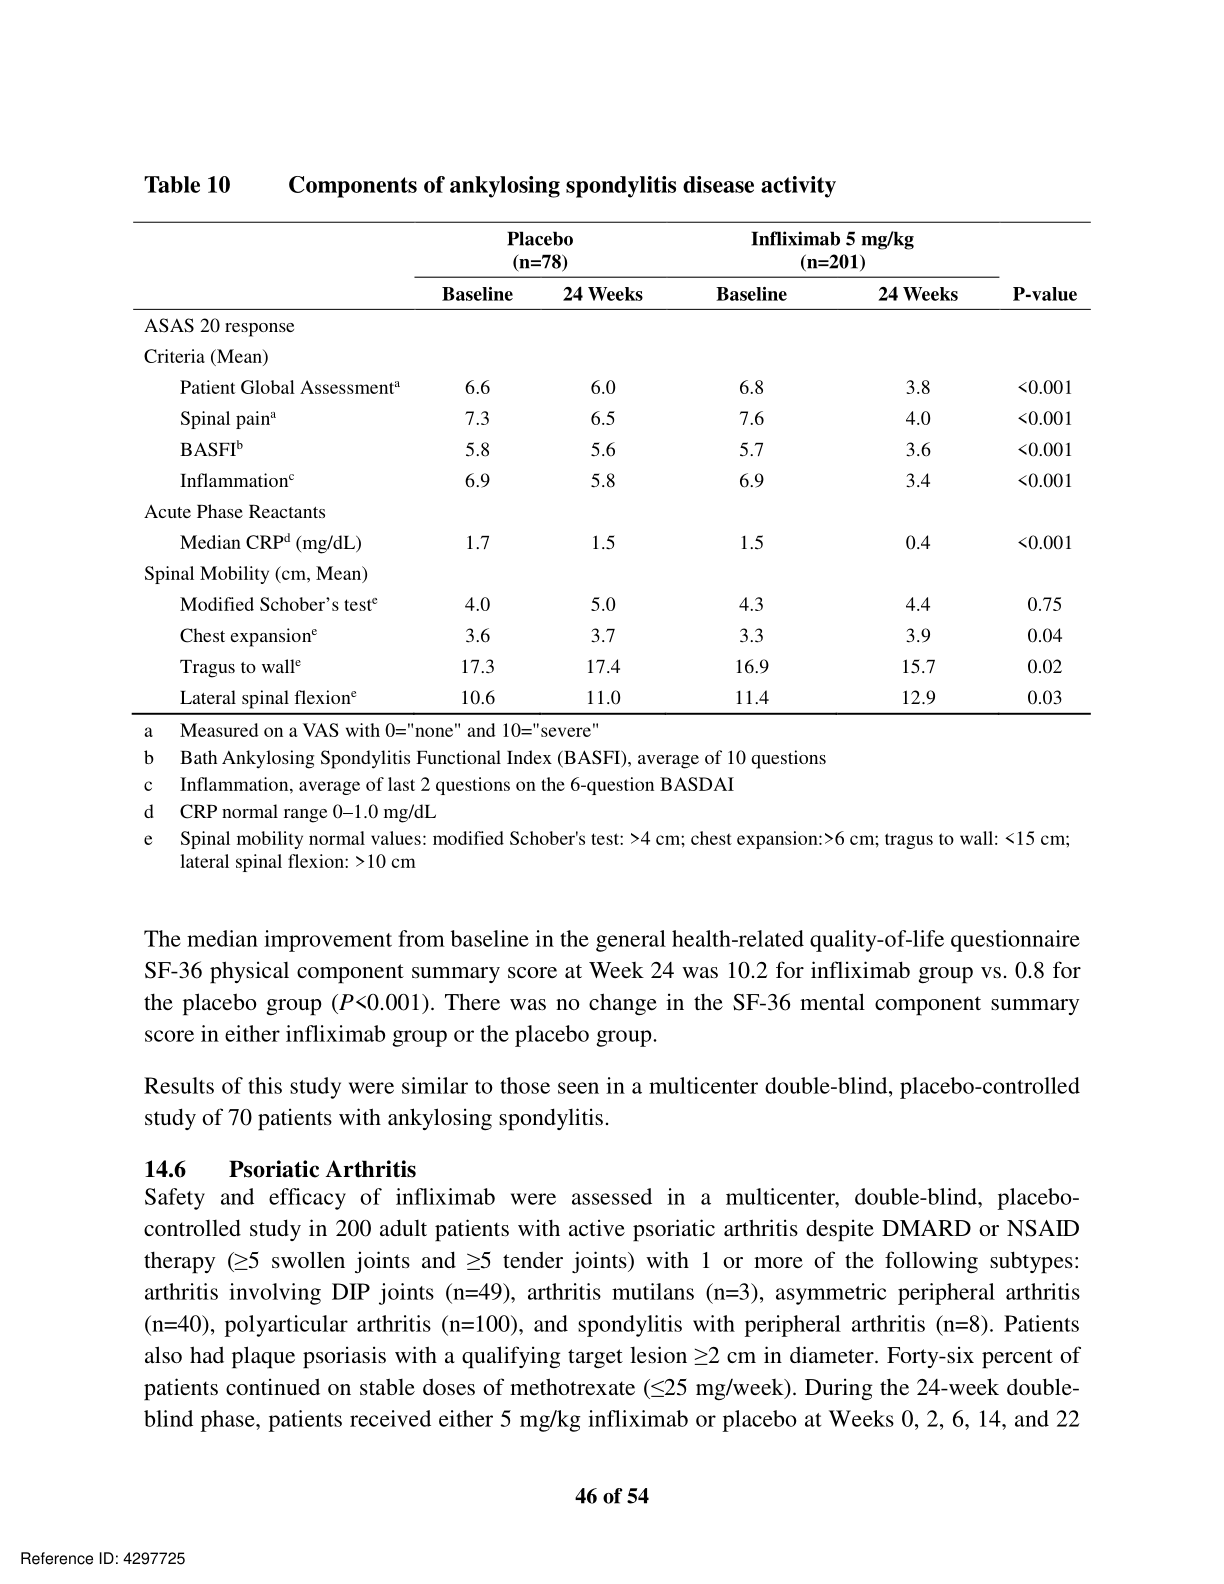partial_lined_merged_cells: (131, 221, 1092, 715)
